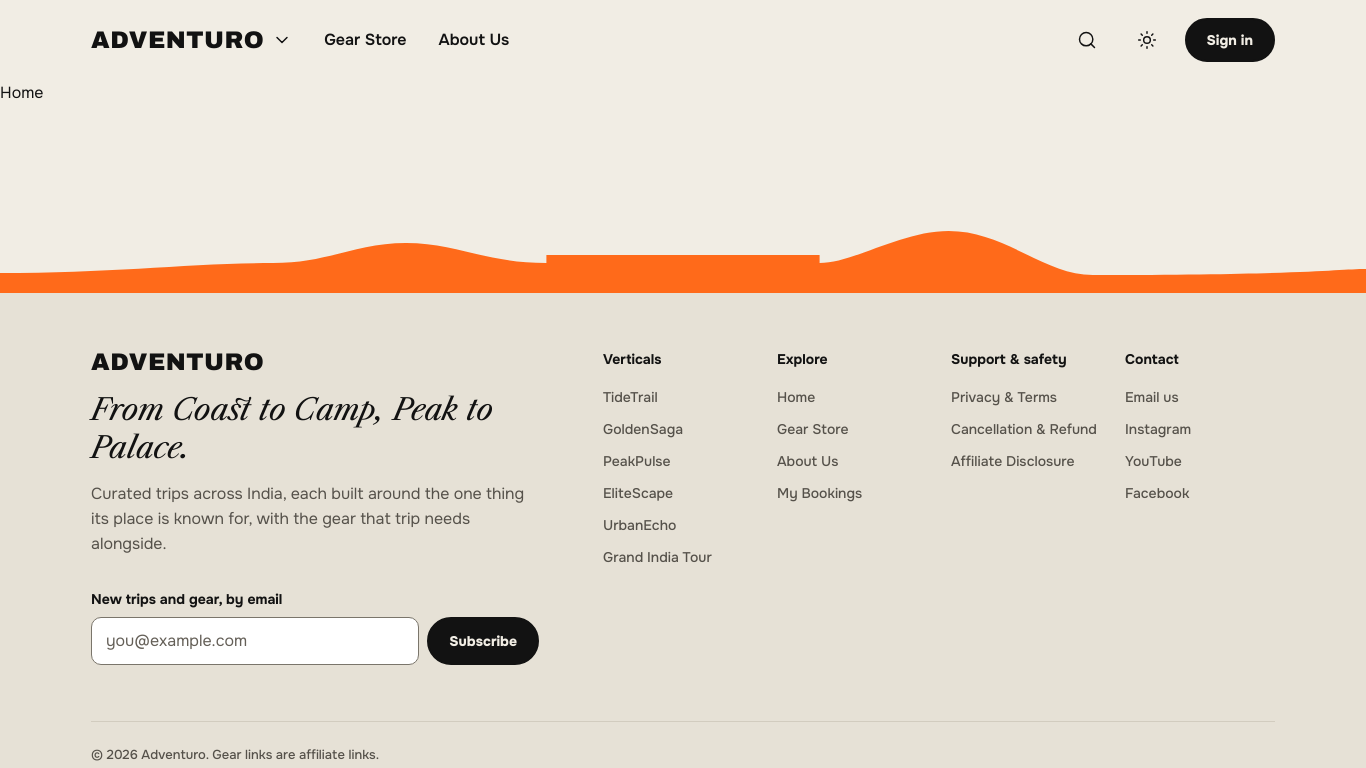
Test: SearchOverlay › waits for a pause and at least two characters before it asks
The width and height of the screenshot is (1366, 768).
Click the button named "Search" at (1086, 40), box [1064,18,1108,62]
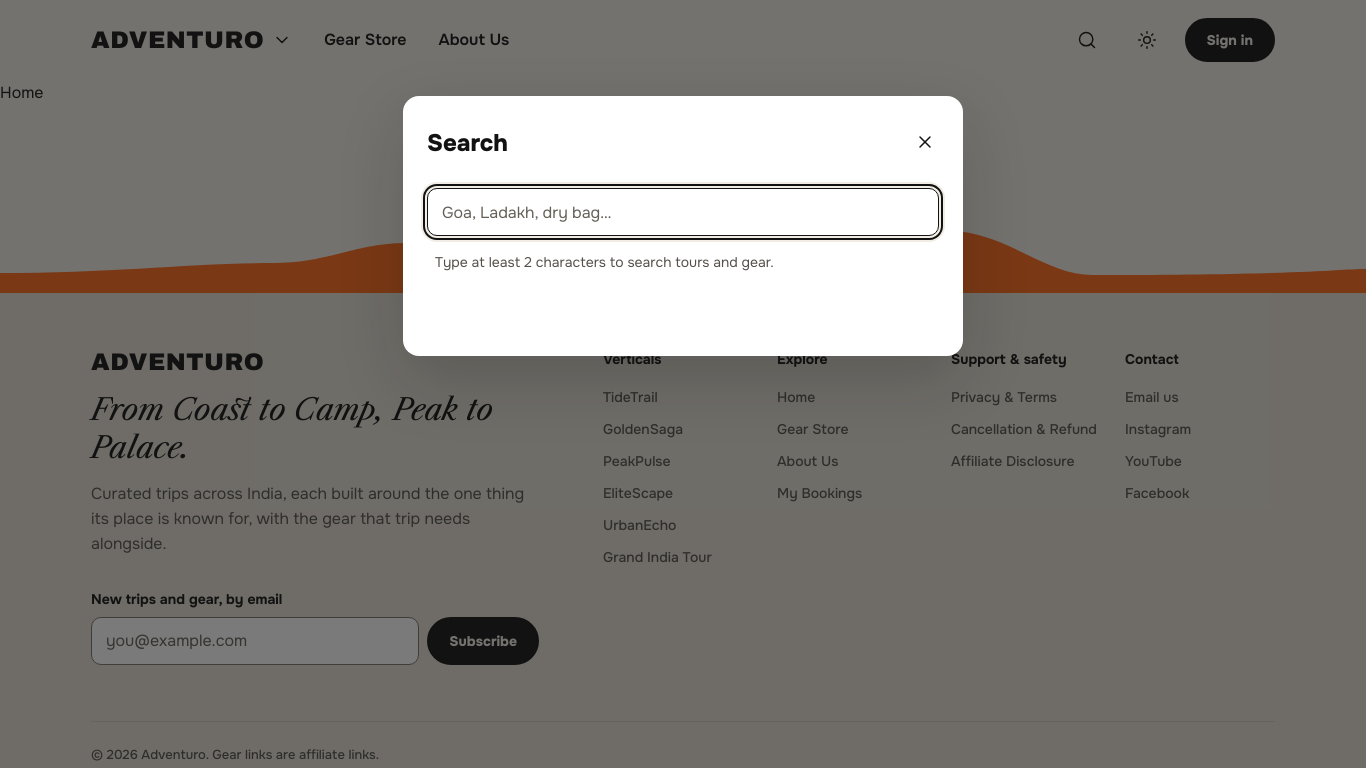
Type "g" into the search field named "Search tours and gear" at (683, 212), box [427,188,939,236]
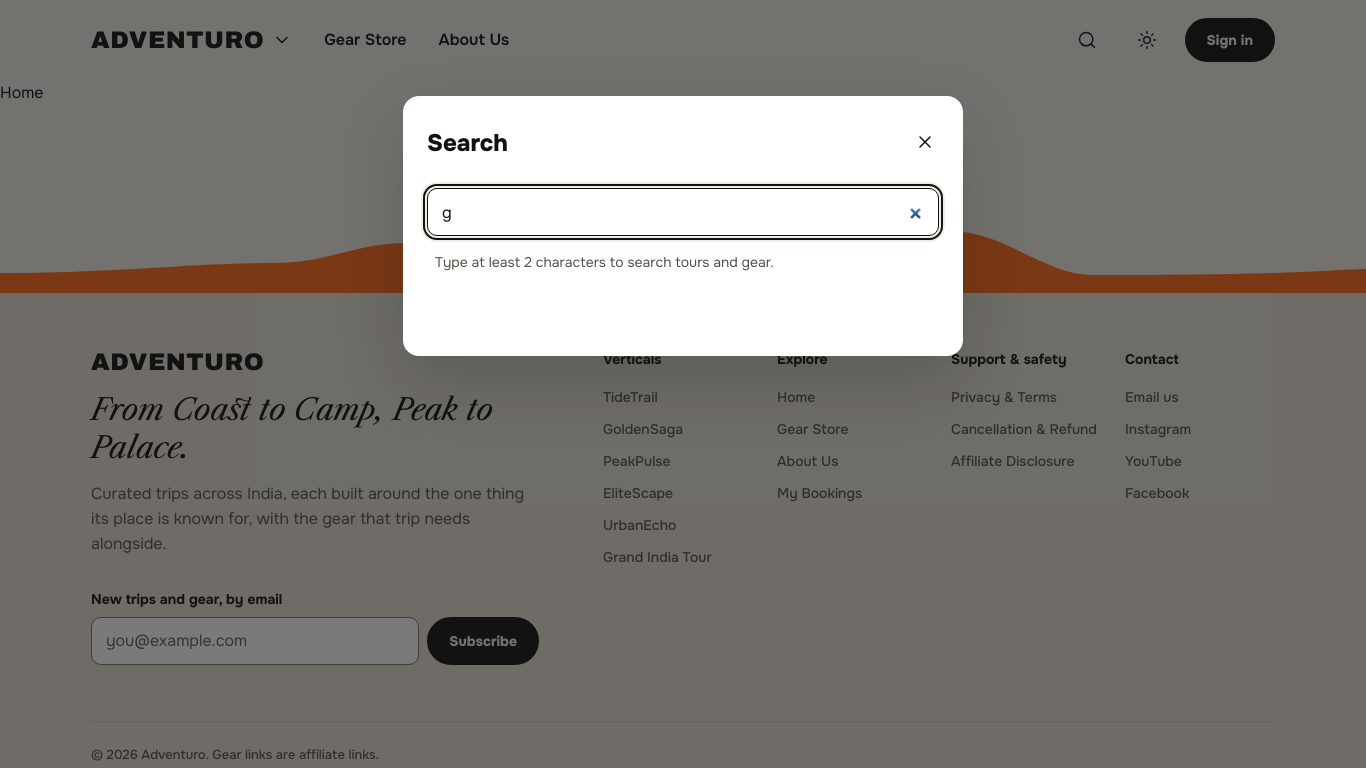
Expected: the text "Type at least 2 characters to search tours and gear." is shown, [435,253,774,271]
Type "oa " into the search field named "Search tours and gear" at (683, 212), box [427,188,939,236]
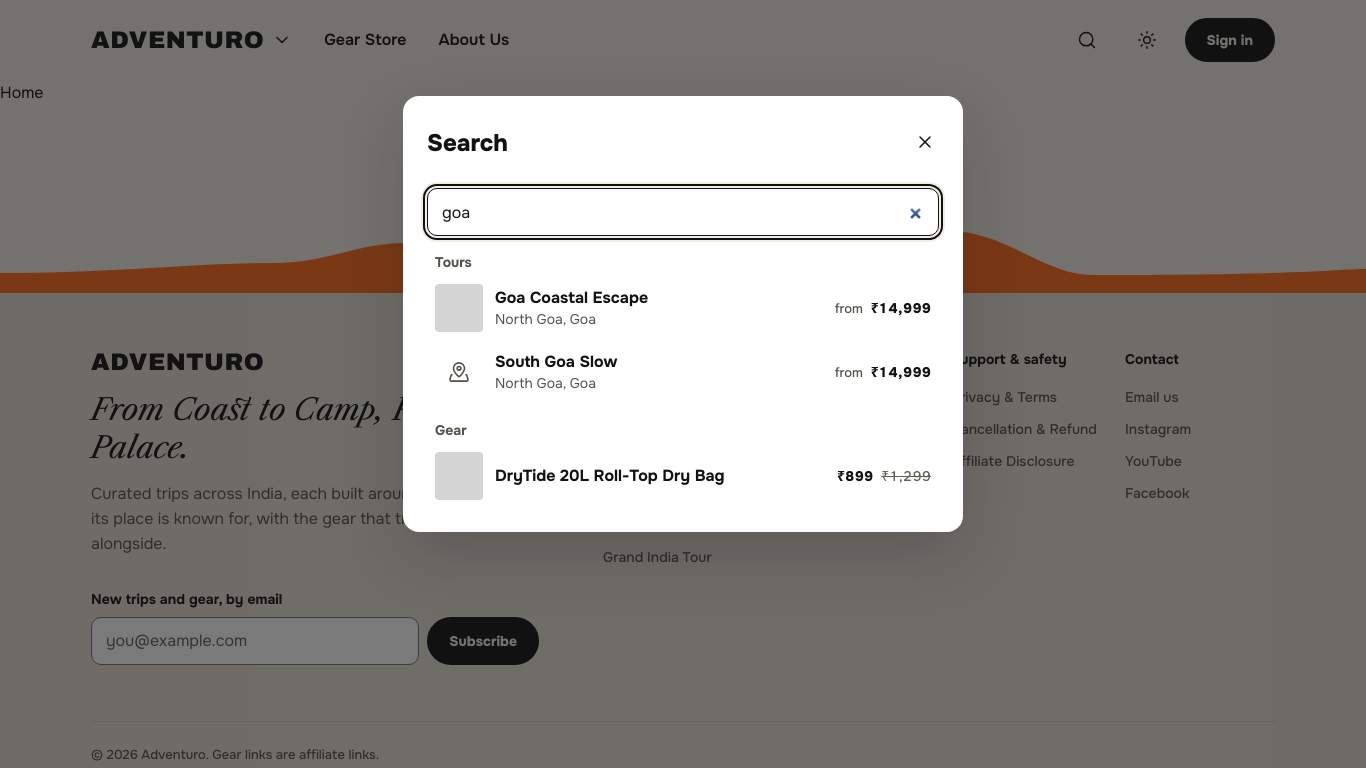
Expected: the link "Goa Coastal Escape North Goa, Goa from ₹14,999" is shown, [427,276,939,340]
